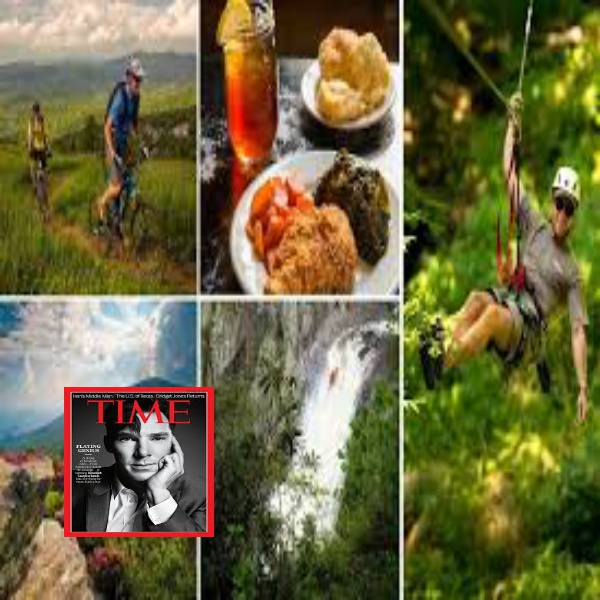time_cover: (60, 383, 221, 552)
